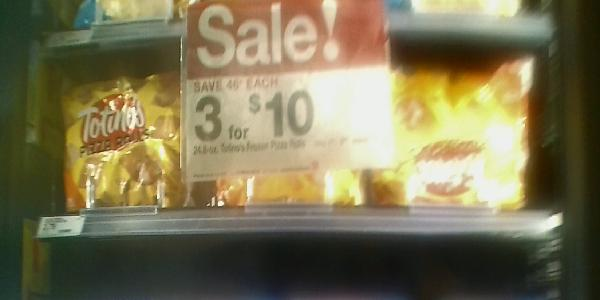icecream: (179, 44, 370, 207), (369, 40, 541, 219), (54, 66, 188, 212)
